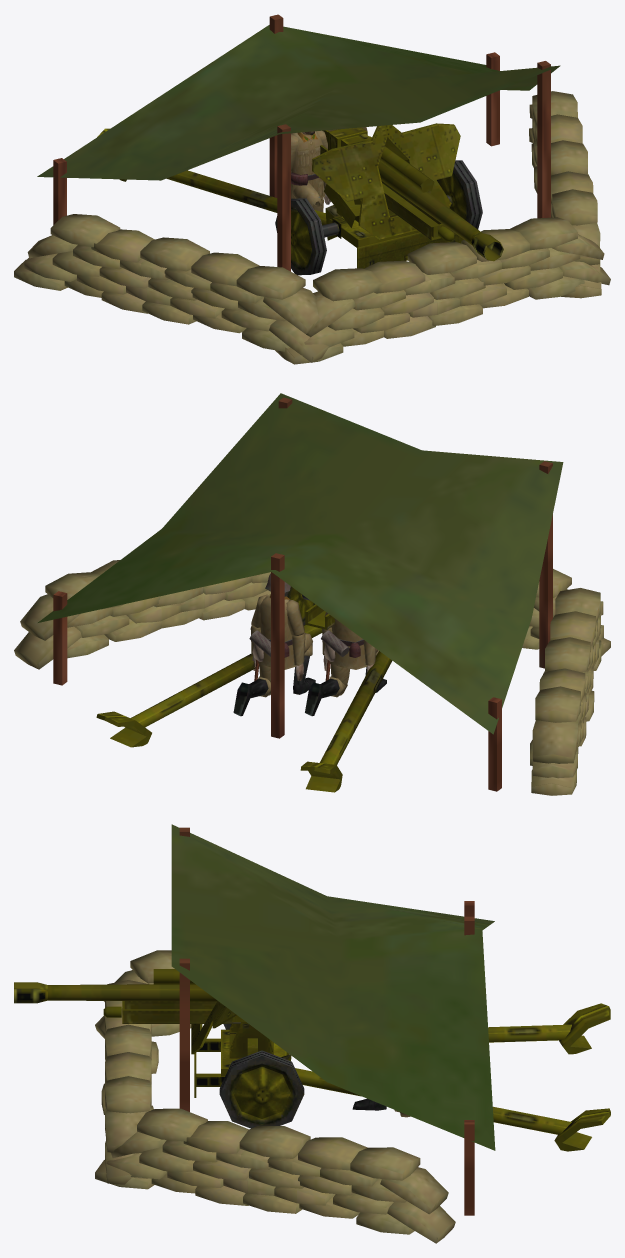
The model's file is HUNleFH18_Stationary.dae.
3 views of the same model, one above another, from view 1: azimuth 30°, elevation 25°; view 2: azimuth 150°, elevation 25°; view 3: azimuth 270°, elevation 25° (orthographic). The views are drawn at different scales.
Parts seen in each view (by area): view 1: base, carriage, barrel, sleeve, torso1; view 2: base, carriage, torso1, torso2; view 3: base, carriage, barrel, sleeve.
Part boxes in pixels (x1,y1,x2,y2): base: (14,14,610,364); carriage: (97,123,482,275); barrel: (328,127,503,261); sleeve: (320,130,454,242); torso1: (291,131,324,198); base: (14,393,610,795); carriage: (96,586,392,792); torso1: (321,618,366,680); torso2: (249,594,295,680); base: (95,824,495,1243); carriage: (191,1001,610,1151); barrel: (14,982,217,1003); sleeve: (103,969,240,1023).
Bounding box in the file's own units: 51.33 × 46.12 × 18.15.
